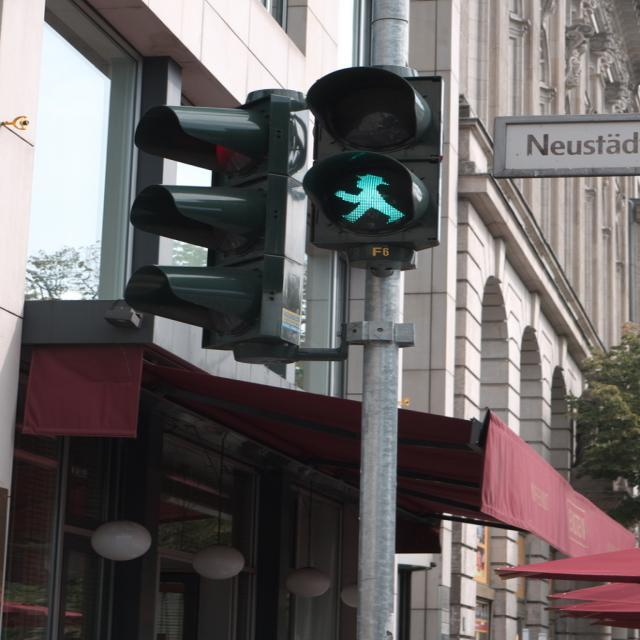traffic light: (122, 89, 304, 358), (300, 65, 445, 280)
